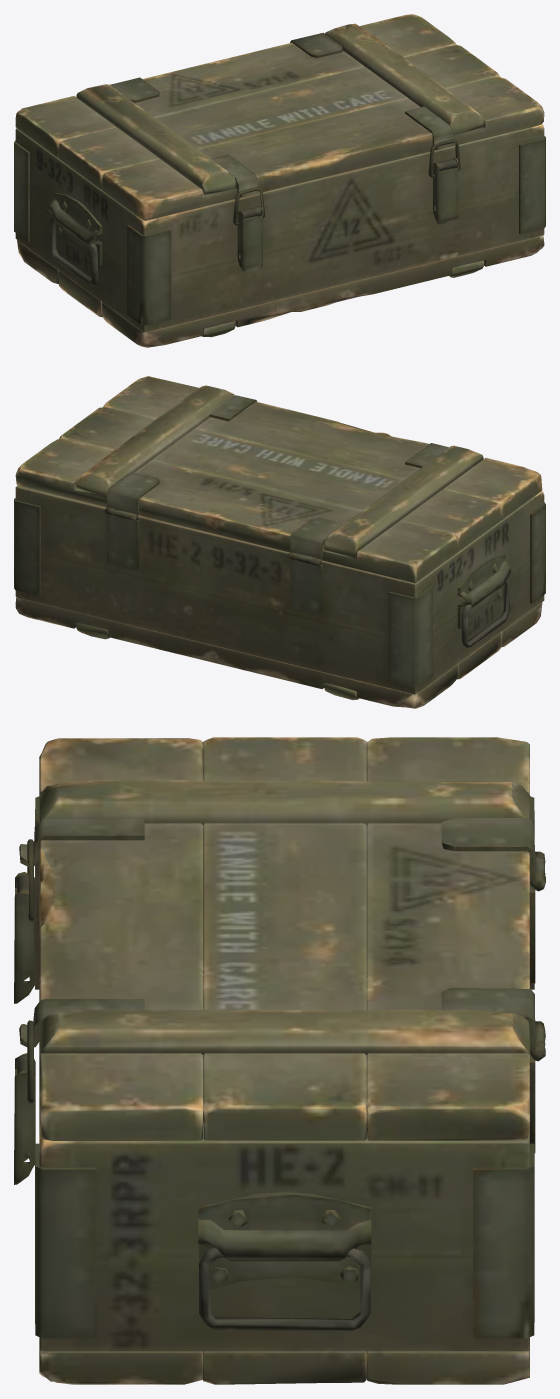
The model's file is crate.0791a6ab.glb.
The picture shows the model from 3 angles, top to bottom: view 1: azimuth 30°, elevation 25°; view 2: azimuth 150°, elevation 25°; view 3: azimuth 270°, elevation 25°; orthographic projection. The views are drawn at different scales.
Parts seen in each view (by area): view 1: old_military_crate_lid_a; view 2: old_military_crate_lid_a; view 3: old_military_crate_lid_a.
Boxes of the visible parts, x1,y1,x2,y2 form: old_military_crate_lid_a: [14, 14, 545, 347]; old_military_crate_lid_a: [14, 376, 545, 708]; old_military_crate_lid_a: [14, 737, 545, 1384].
Size of the model in its own units: 0.8047 by 0.3009 by 0.4662.
1 material, 1 textured.
